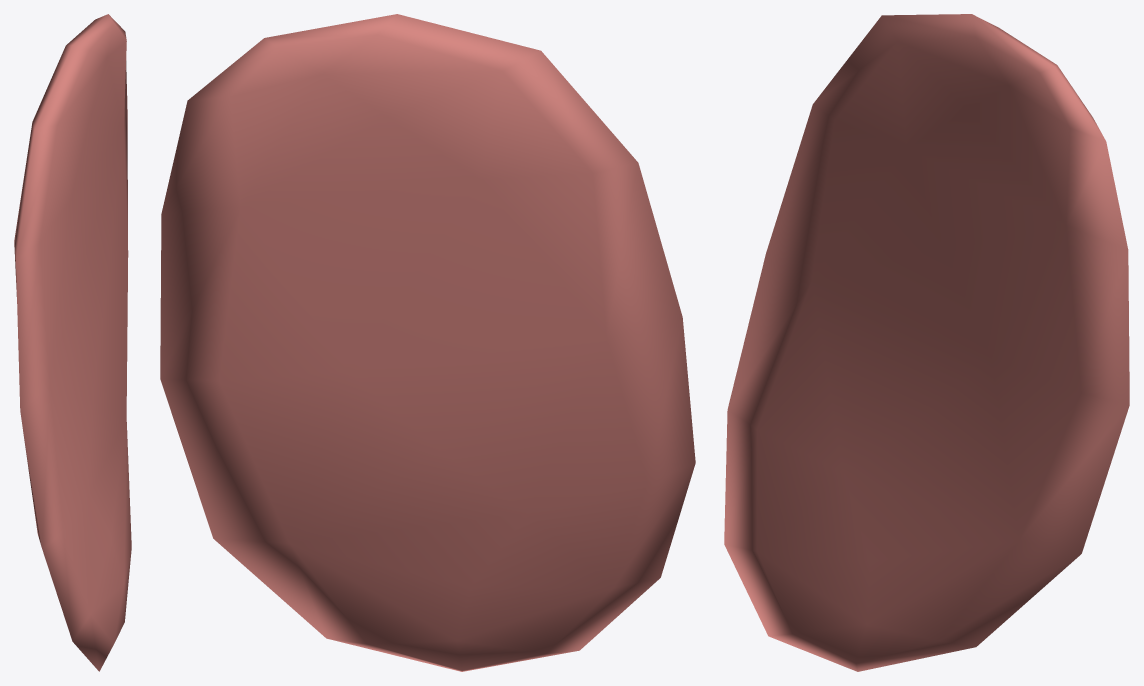
The picture shows the model from 3 angles, left to right: view 1: azimuth 30°, elevation 25°; view 2: azimuth 150°, elevation 25°; view 3: azimuth 270°, elevation 25°; orthographic projection. The views are drawn at different scales.
Parts seen in each view (by area): view 1: ZA_3dc62b4f95f17bcd; view 2: ZA_3dc62b4f95f17bcd; view 3: ZA_3dc62b4f95f17bcd.
Boxes of the visible parts, <box> form: ZA_3dc62b4f95f17bcd: <box>14,14,131,671</box>; ZA_3dc62b4f95f17bcd: <box>160,14,695,671</box>; ZA_3dc62b4f95f17bcd: <box>724,14,1129,671</box>.
Size of the model in its own units: 0.00377 by 0.00767 by 0.00428.
